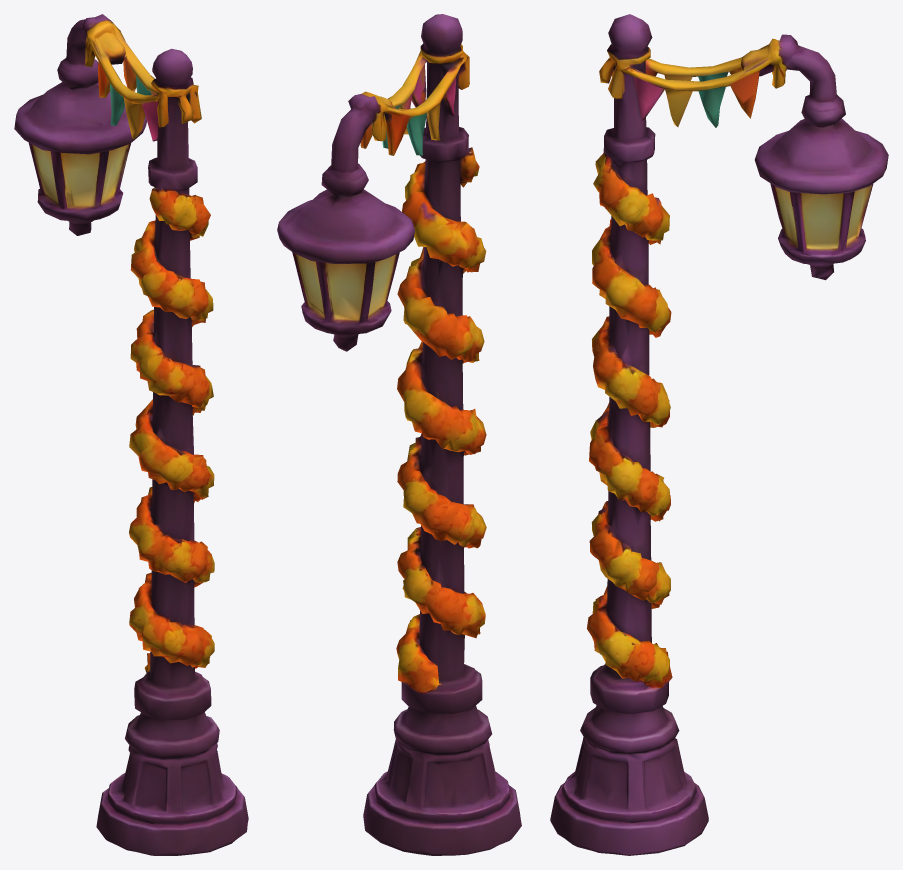
The model's file is street-lamp-garland.glb.
3 views of the same model, side by side, from view 1: azimuth 30°, elevation 25°; view 2: azimuth 150°, elevation 25°; view 3: azimuth 270°, elevation 25° (orthographic). The views are drawn at different scales.
Parts seen in each view (by area): view 1: tripo_node_decfe6b9-e38a-4c8f-93e0-6645e65b9c18; view 2: tripo_node_decfe6b9-e38a-4c8f-93e0-6645e65b9c18; view 3: tripo_node_decfe6b9-e38a-4c8f-93e0-6645e65b9c18.
Part boxes in pixels (box(x1,y1,x2,y2)): tripo_node_decfe6b9-e38a-4c8f-93e0-6645e65b9c18: box(14, 14, 248, 855); tripo_node_decfe6b9-e38a-4c8f-93e0-6645e65b9c18: box(277, 14, 521, 855); tripo_node_decfe6b9-e38a-4c8f-93e0-6645e65b9c18: box(550, 14, 888, 855).
Size of the model in its own units: 0.1804 by 1 by 0.3795.
1 material, 1 textured.
